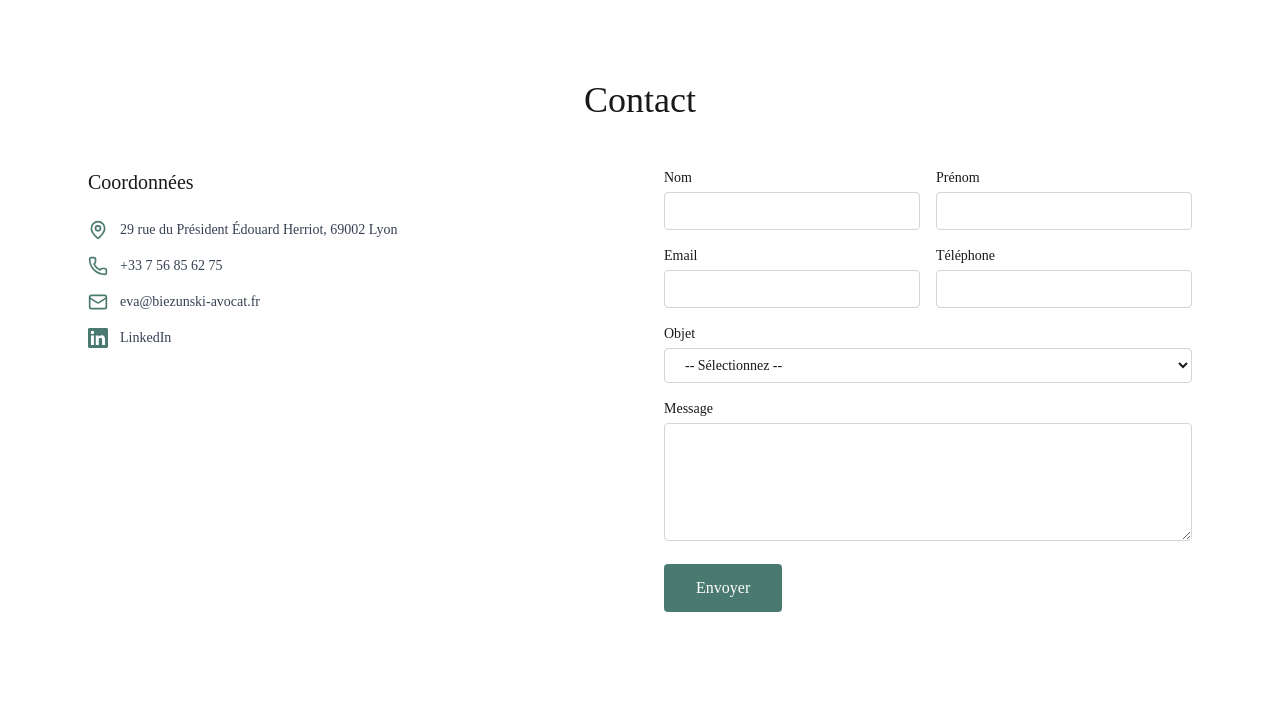
Test case: Contact › submission › posts the form to /api/contact and shows a success message
In the field labelled "Nom": (792, 211) [664,192,920,230], type "Dupont"
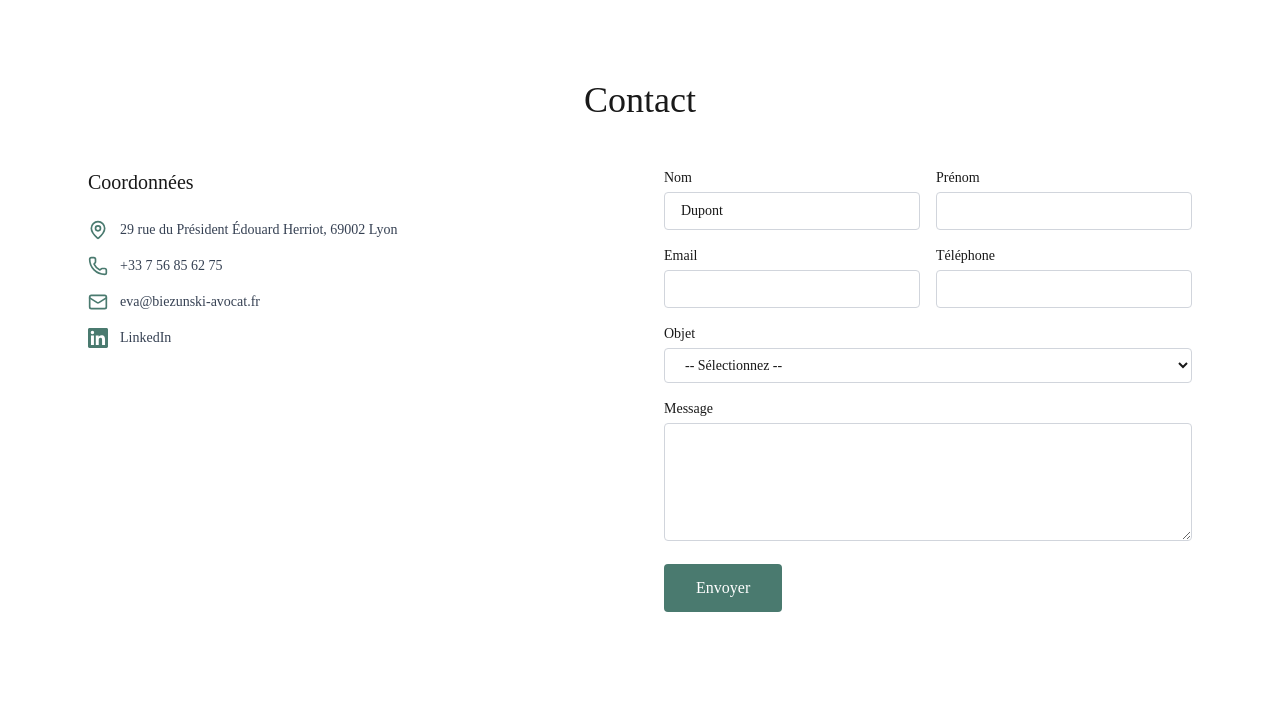
In the field labelled "Prénom": (1064, 211) [936,192,1192,230], type "Marie"
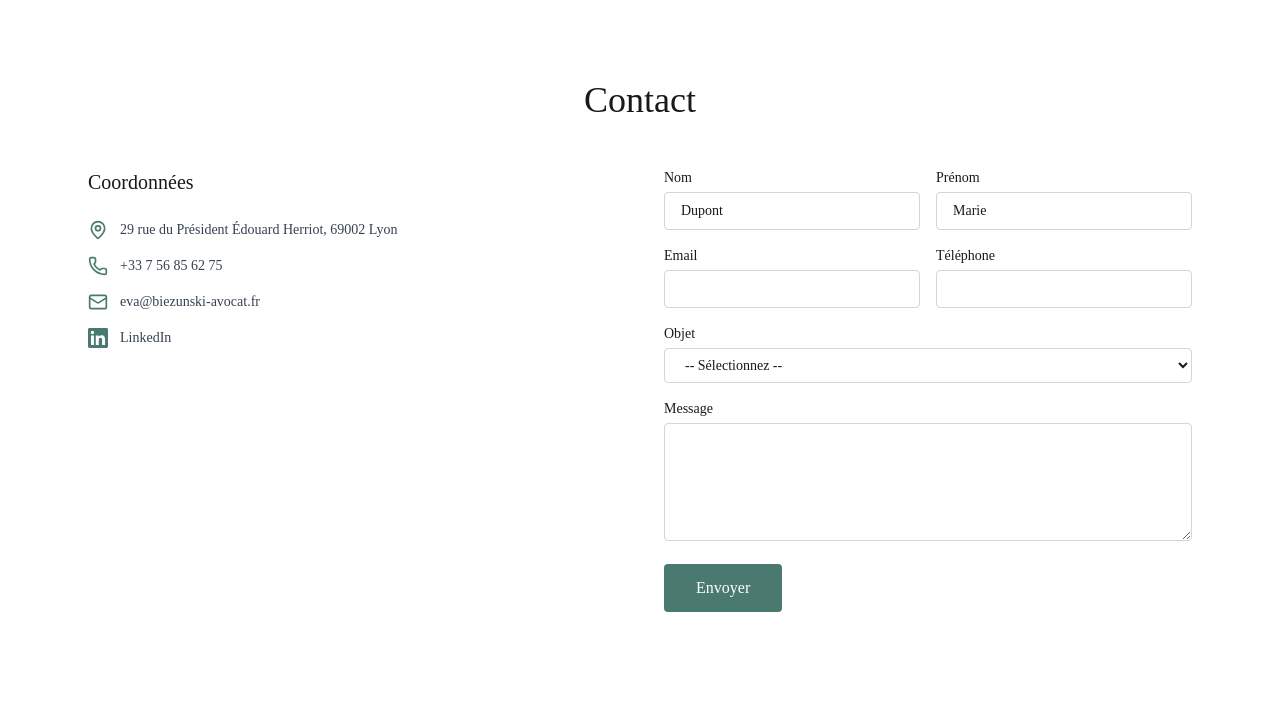
In the field labelled "Email": (792, 289) [664,270,920,308], type "marie@example.com"
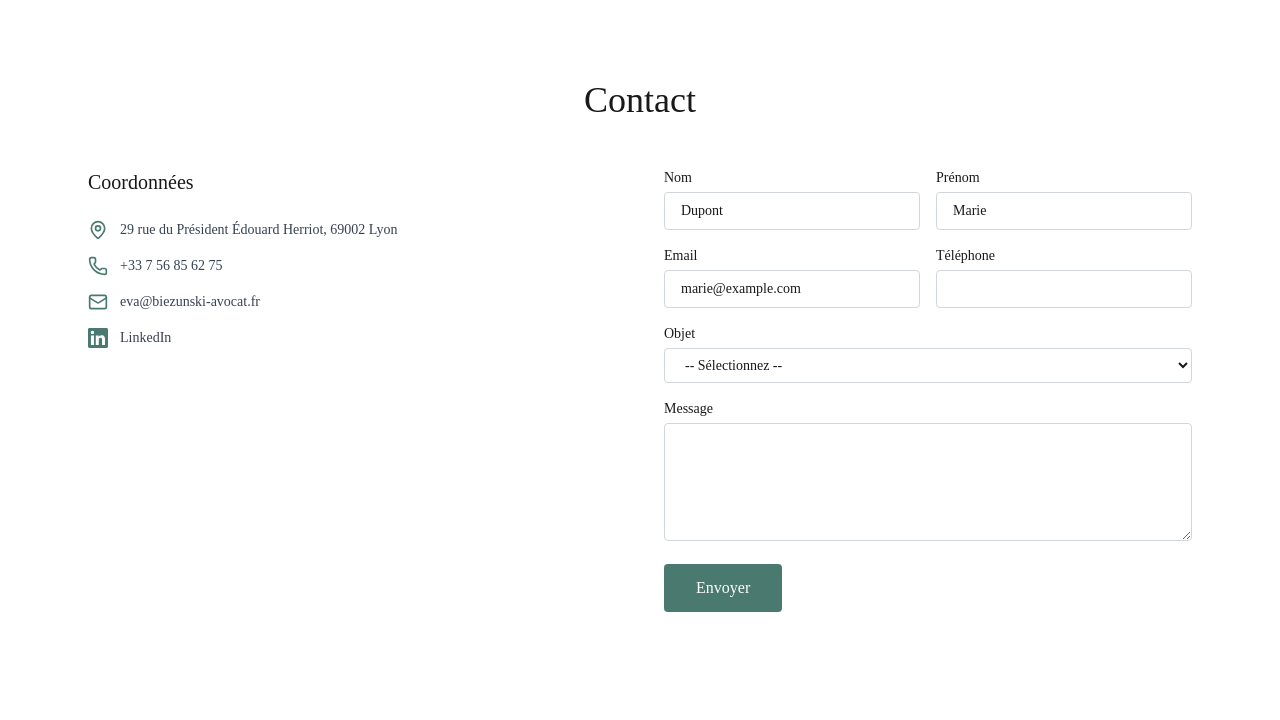
In the text box labelled "Message": (928, 482) [664,423,1192,541], type "Bonjour."
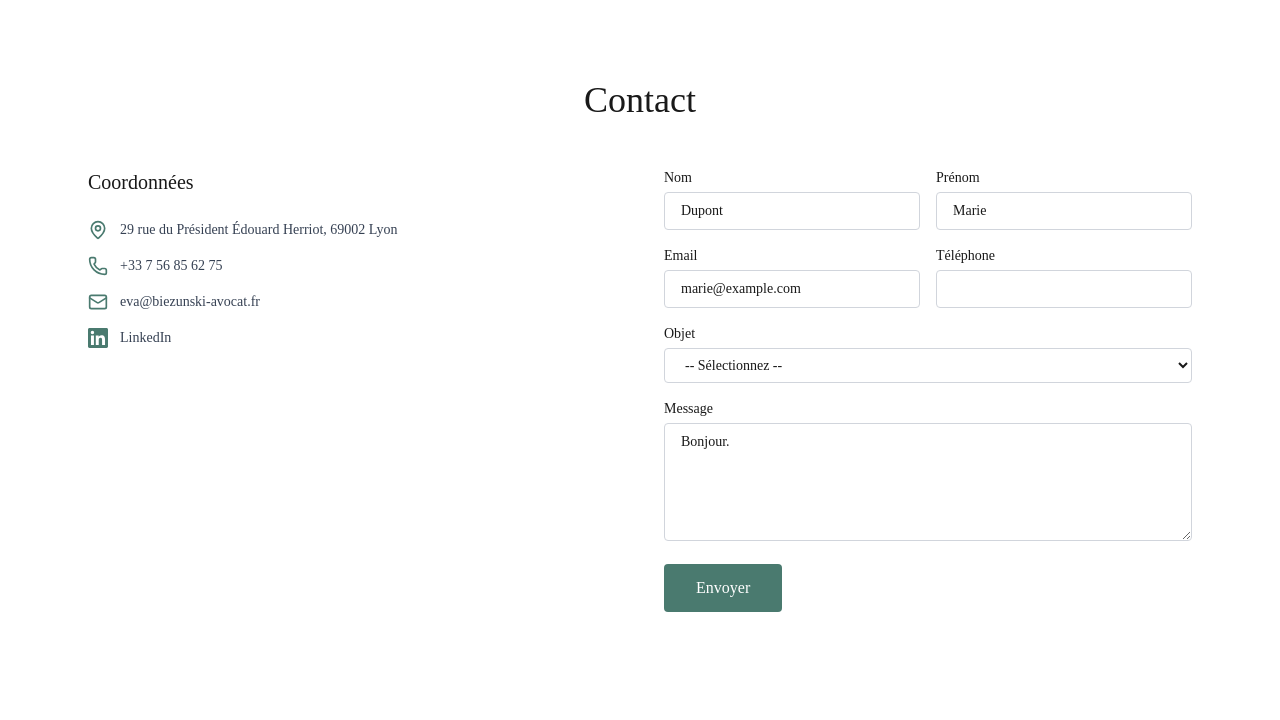
Click the button "Envoyer": click(723, 588) [664,564,782,612]
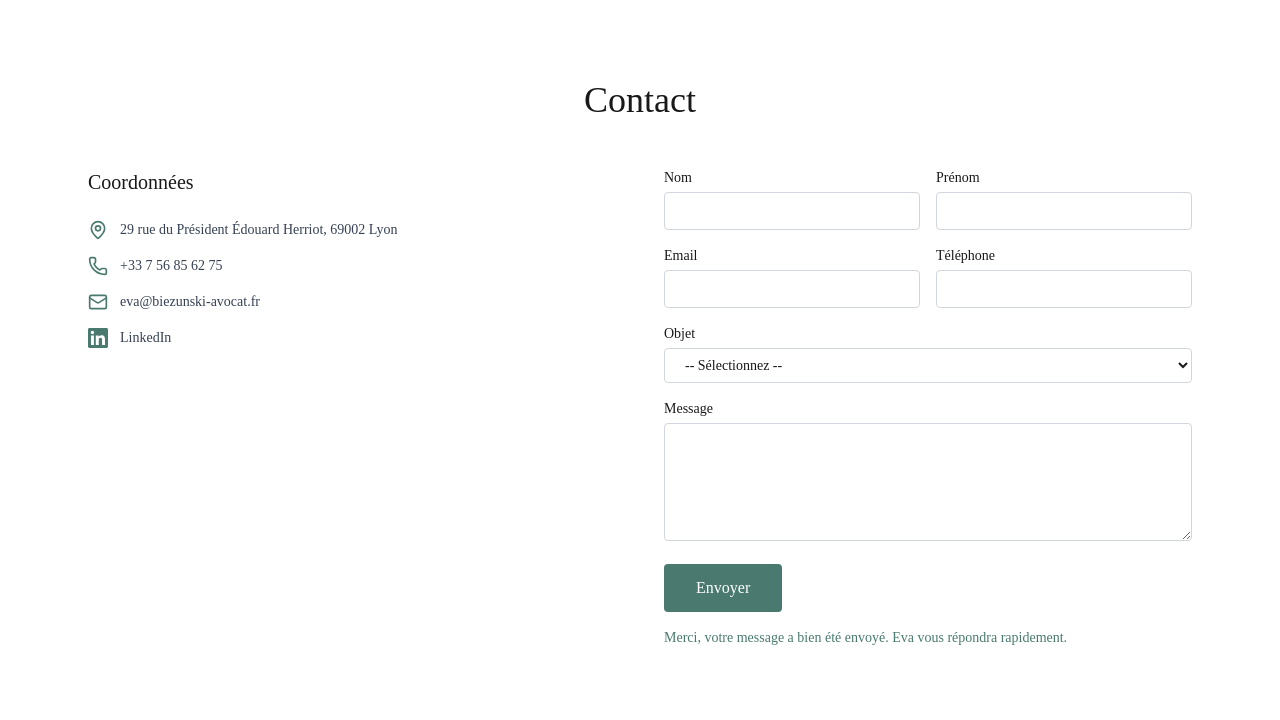
expect the text "Merci, votre message a bien été envoyé. Eva vous répondra rapidement." is shown: met, box [664,630,1067,645]
